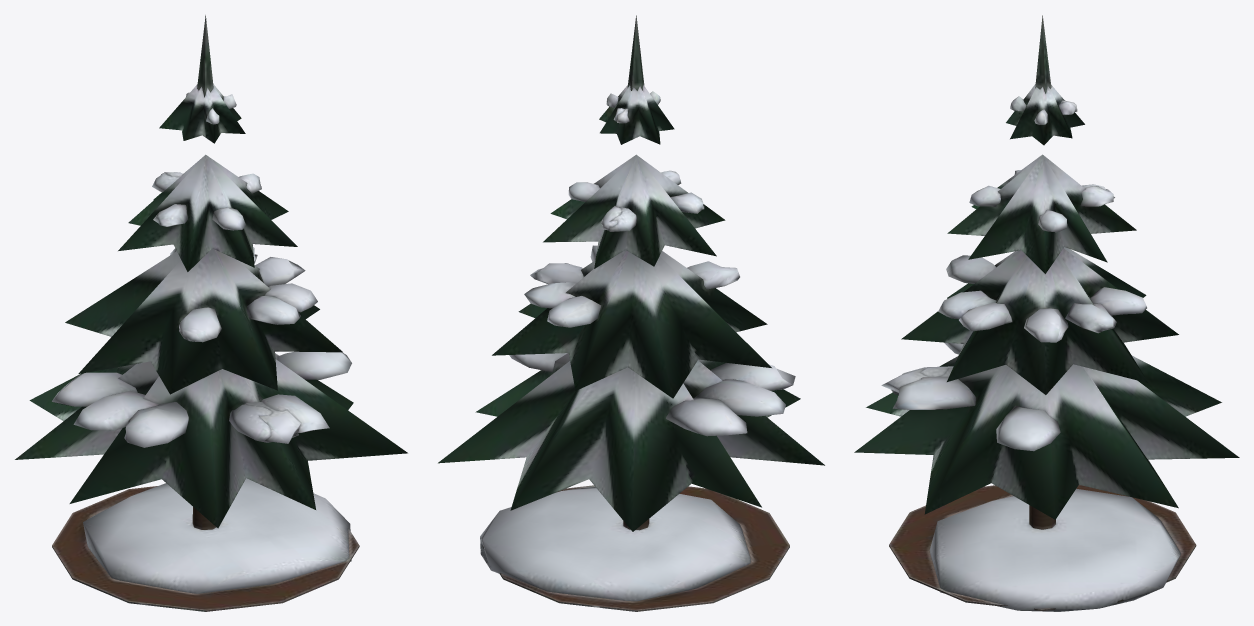
Rendered from tree_pine_small.glb.
The picture shows the model from 3 angles, left to right: view 1: azimuth 30°, elevation 25°; view 2: azimuth 150°, elevation 25°; view 3: azimuth 270°, elevation 25°; orthographic projection.
Visible parts, largest first — view 1: tree_pine_small; view 2: tree_pine_small; view 3: tree_pine_small.
Boxes of the visible parts, left/top/right/bottom form: tree_pine_small: left=15, top=15, right=407, bottom=611; tree_pine_small: left=438, top=15, right=824, bottom=611; tree_pine_small: left=854, top=15, right=1239, bottom=611.
Bounding box in the file's own units: 2.19 × 3.53 × 2.31.
1 material, 1 textured.
